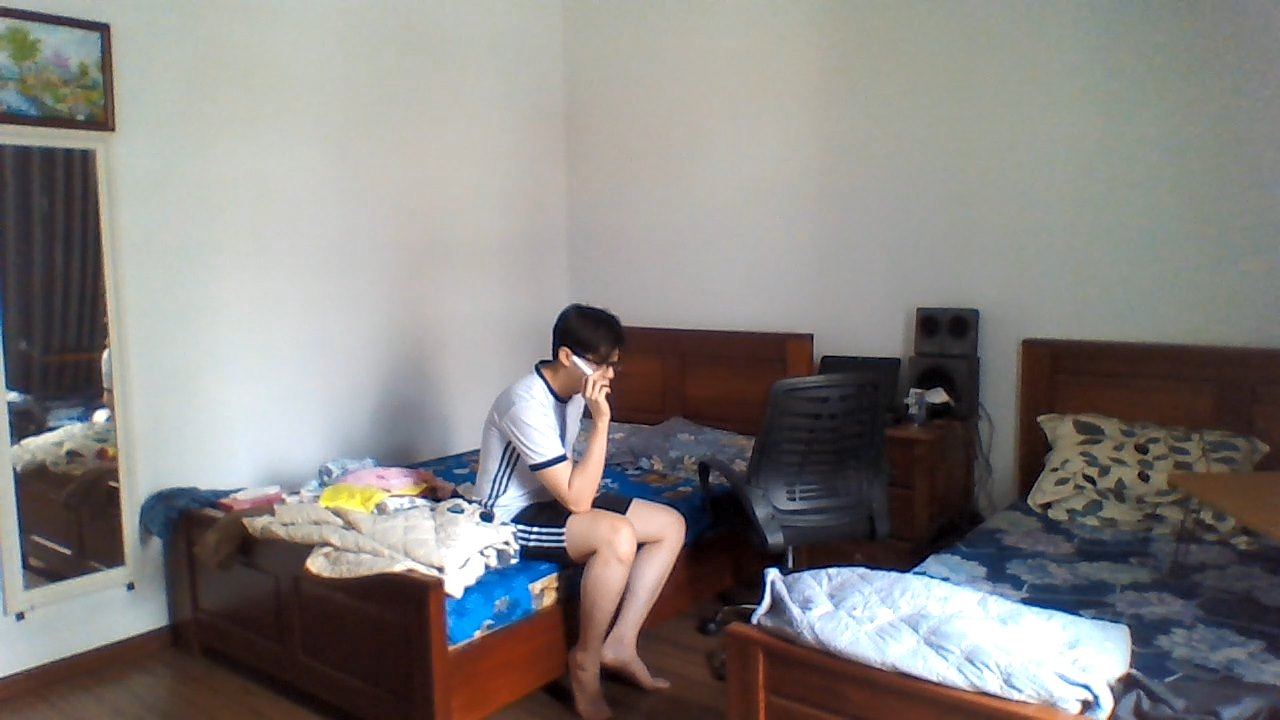person: (464, 270, 691, 720), (572, 354, 594, 377)
